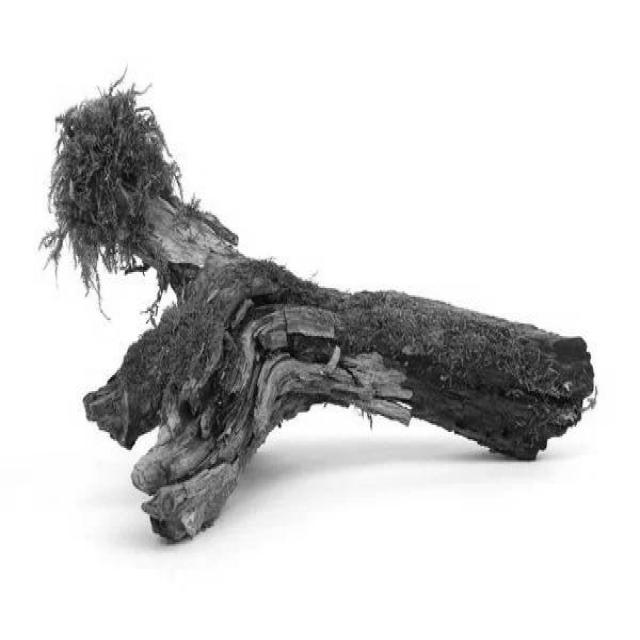Tree: (43, 87, 595, 541)
